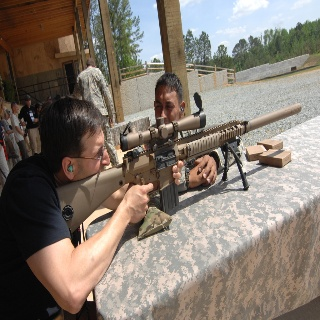rifle: (53, 100, 303, 219)
